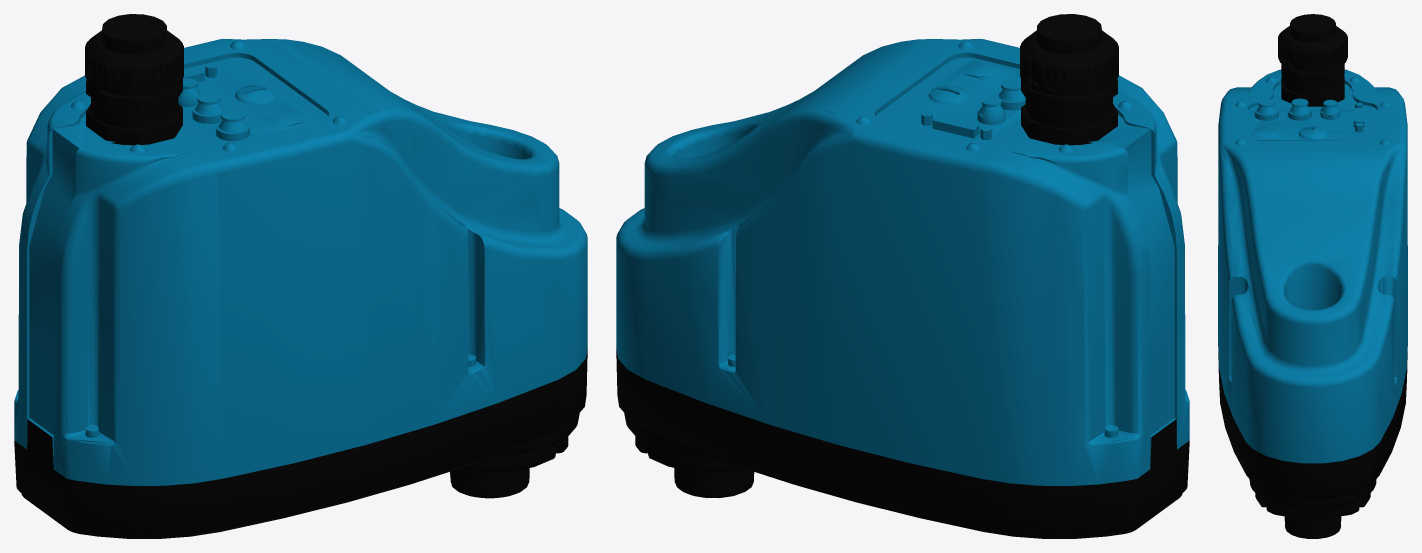
3 views of the same model, side by side, from view 1: azimuth 30°, elevation 25°; view 2: azimuth 150°, elevation 25°; view 3: azimuth 270°, elevation 25° (orthographic). The views are drawn at different scales.
Visible parts, largest first — view 1: sg400_lk2; view 2: sg400_lk2; view 3: sg400_lk2.
Boxes of the visible parts, x1,y1,x2,y2 form: sg400_lk2: [14, 14, 587, 538]; sg400_lk2: [616, 14, 1189, 538]; sg400_lk2: [1218, 14, 1407, 538].
Bounding box in the file's own units: 0.3008 × 0.1312 × 0.291.
